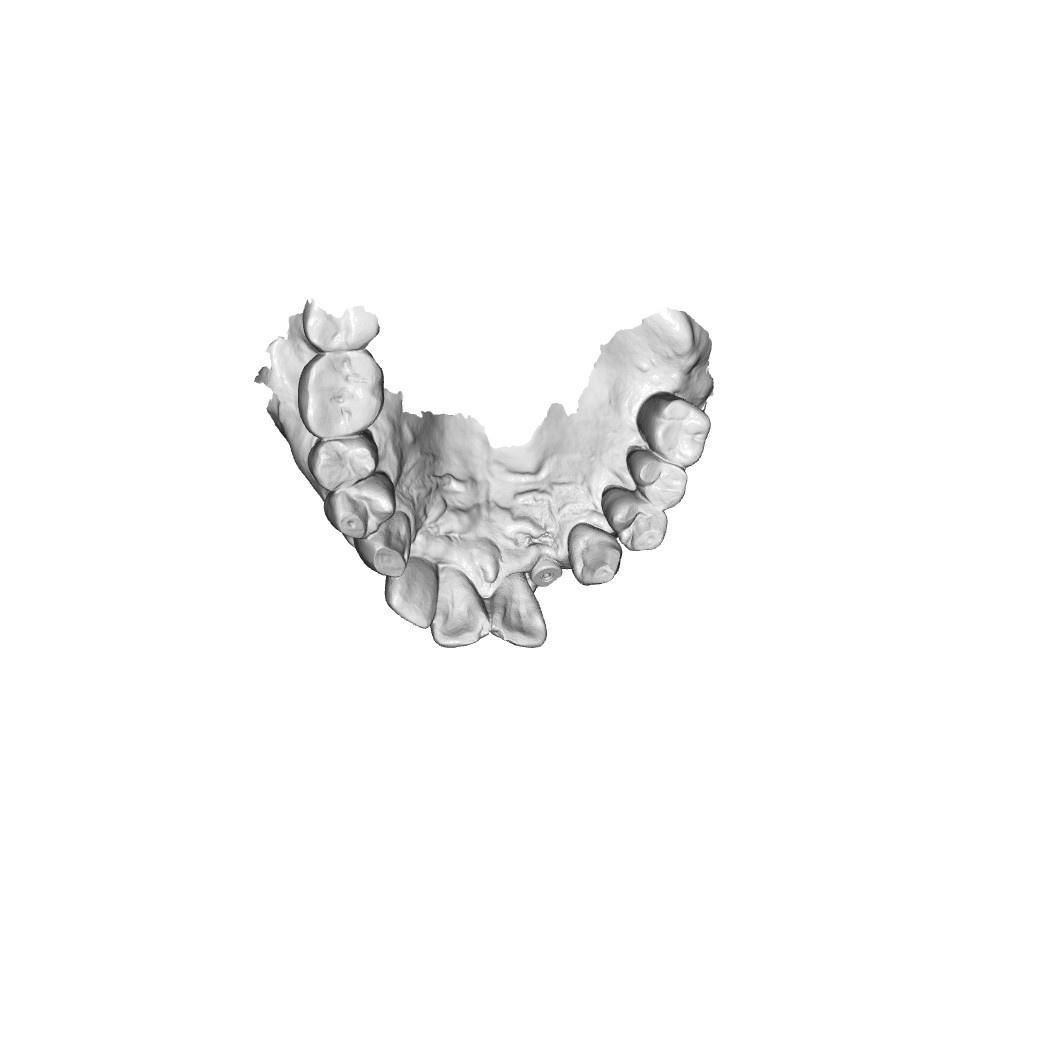canine: (565, 520, 623, 588), (357, 510, 416, 573)
implant: (534, 556, 561, 590)
incisor: (433, 563, 496, 651), (381, 556, 441, 634), (493, 570, 546, 653)
molar: (634, 387, 714, 468), (304, 352, 381, 434)
premolar: (624, 446, 687, 509), (312, 438, 378, 498), (606, 487, 666, 552), (331, 479, 394, 536)
